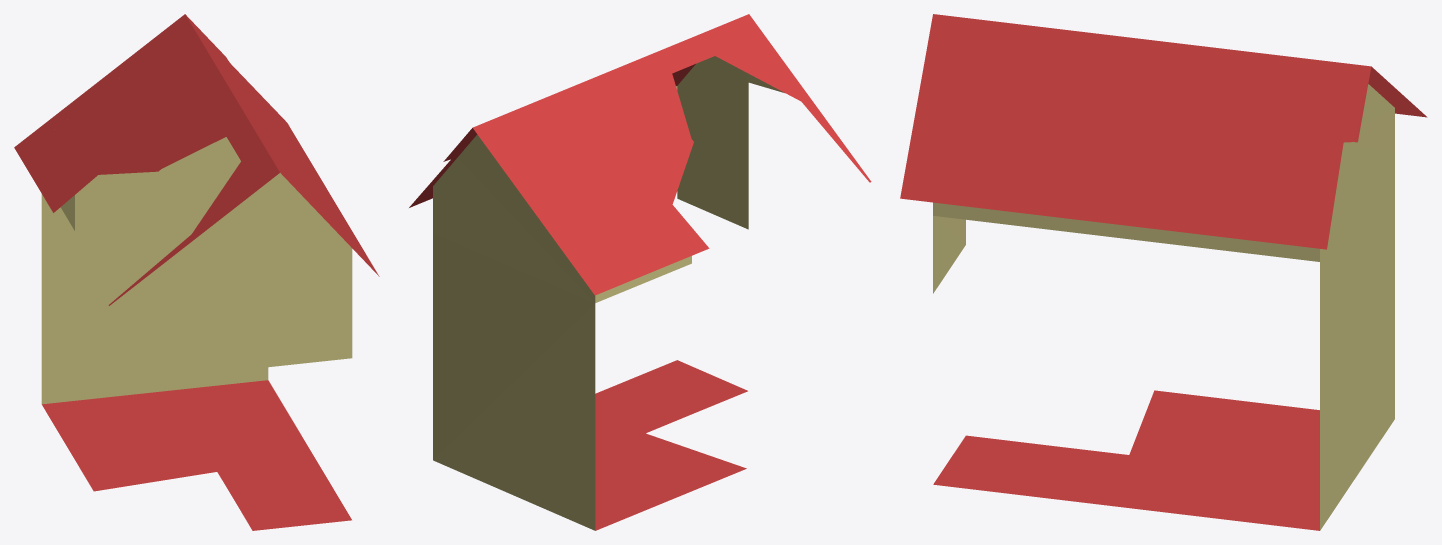
3 renders of one model, left to right at view 1: azimuth 30°, elevation 25°; view 2: azimuth 150°, elevation 25°; view 3: azimuth 270°, elevation 25°, orthographic. The views are drawn at different scales.
Bounding box in the file's own units: 12.28 × 14.85 × 13.33.
